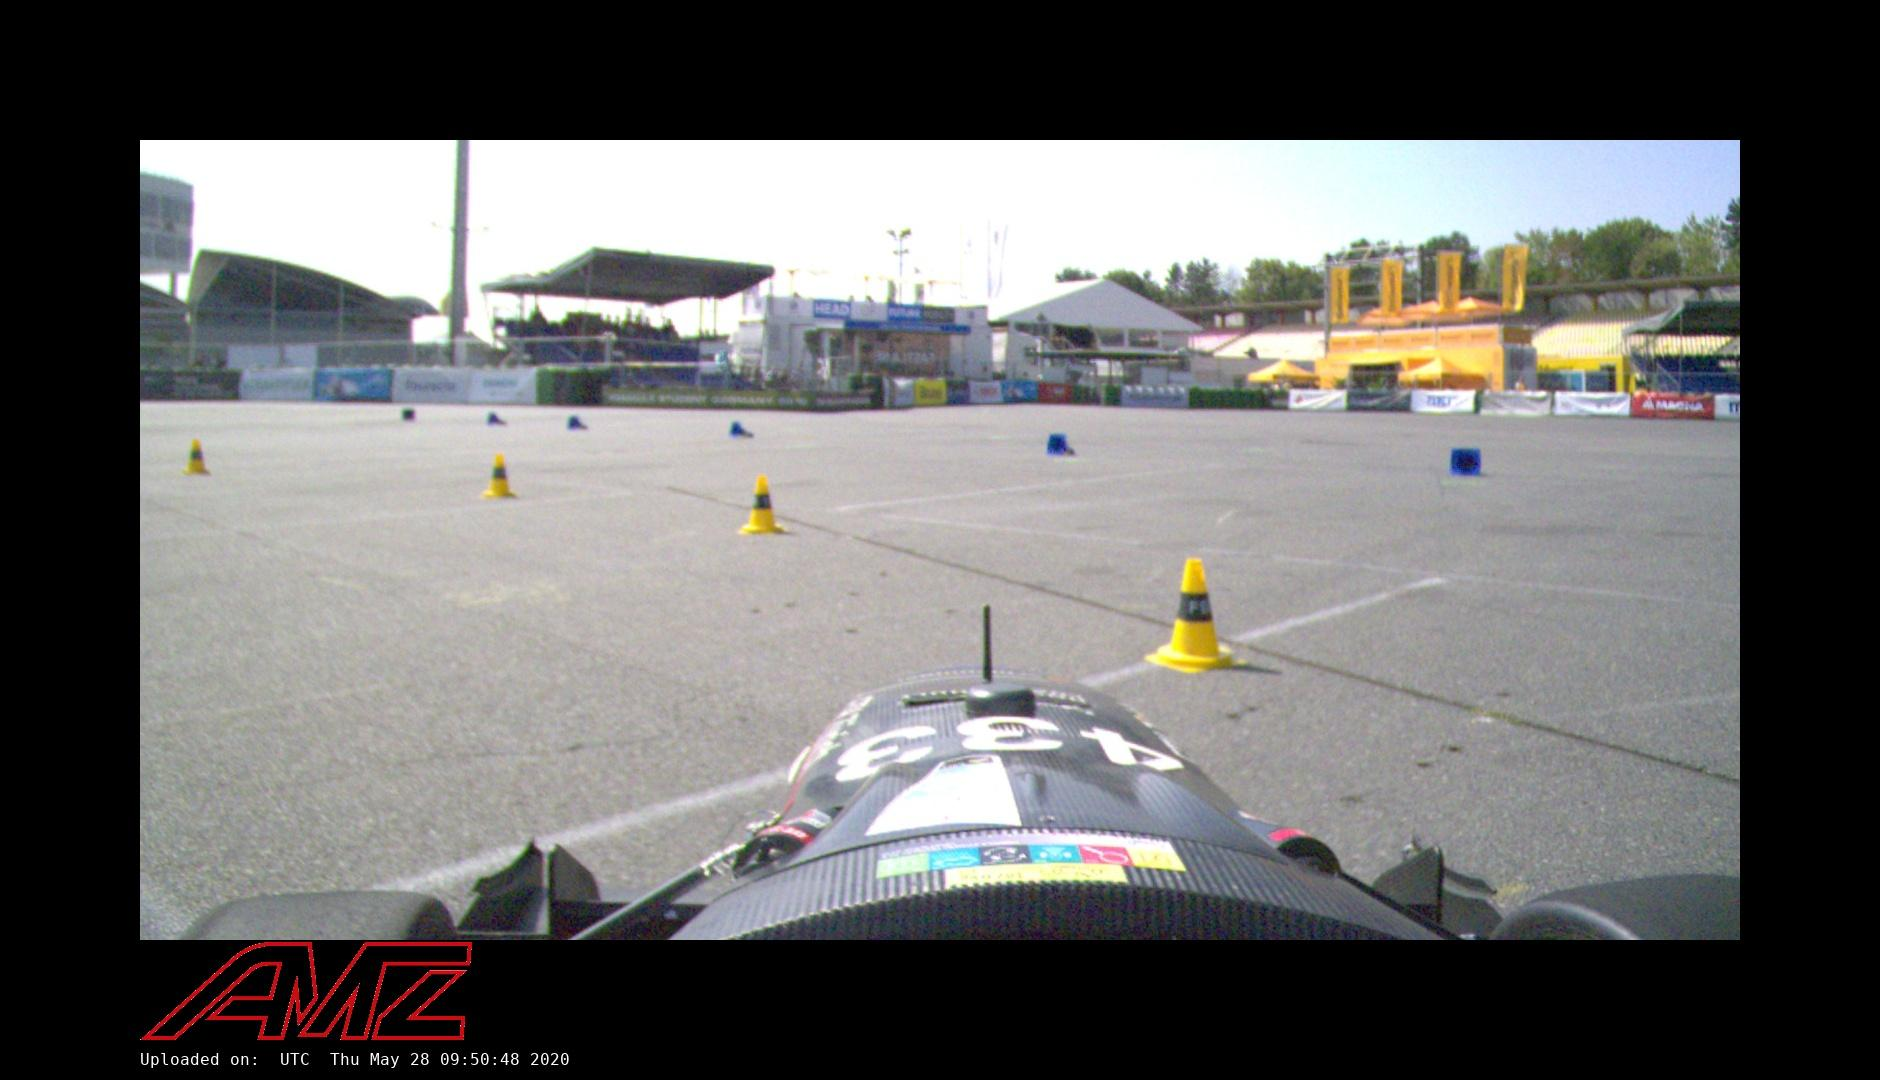blue_cone: (1046, 431, 1078, 460), (728, 421, 755, 439), (566, 415, 589, 431), (484, 412, 507, 426)
yellow_cone: (1139, 556, 1247, 677), (735, 474, 789, 536), (479, 452, 520, 500), (179, 439, 213, 475)
